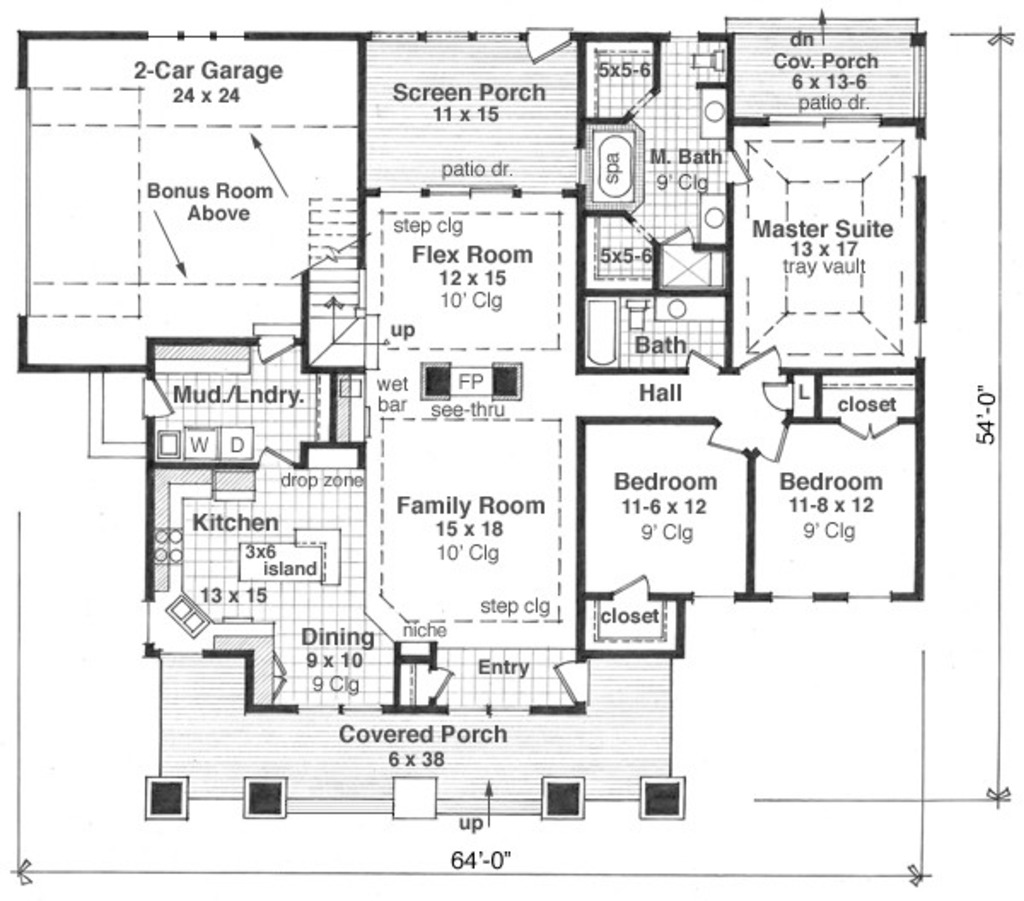door: (605, 562, 671, 605), (519, 20, 576, 67), (837, 409, 908, 444), (548, 654, 596, 705), (703, 420, 753, 466), (136, 373, 180, 419), (759, 422, 803, 466), (718, 141, 755, 187), (758, 376, 803, 413), (250, 331, 294, 367), (254, 444, 307, 473), (737, 345, 787, 373), (682, 345, 725, 376), (261, 651, 289, 698), (429, 665, 459, 706)
large_sink: (676, 41, 725, 74), (629, 291, 655, 330)
small_sink: (697, 88, 736, 147), (693, 180, 729, 242), (648, 292, 722, 322)
stairs: (300, 194, 396, 370)
tub: (582, 292, 632, 369)
twin_sink: (158, 595, 214, 636)
window: (762, 102, 882, 133), (153, 27, 239, 44), (834, 586, 898, 606), (769, 591, 818, 602)
